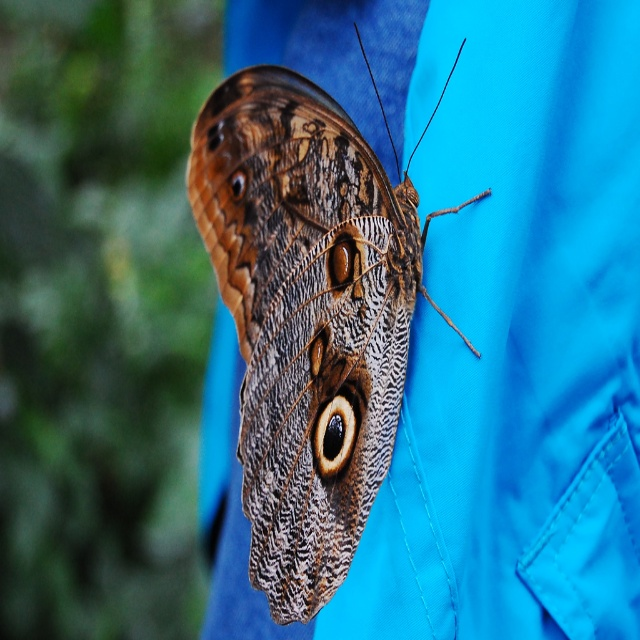Butterfly: (191, 15, 510, 640)
